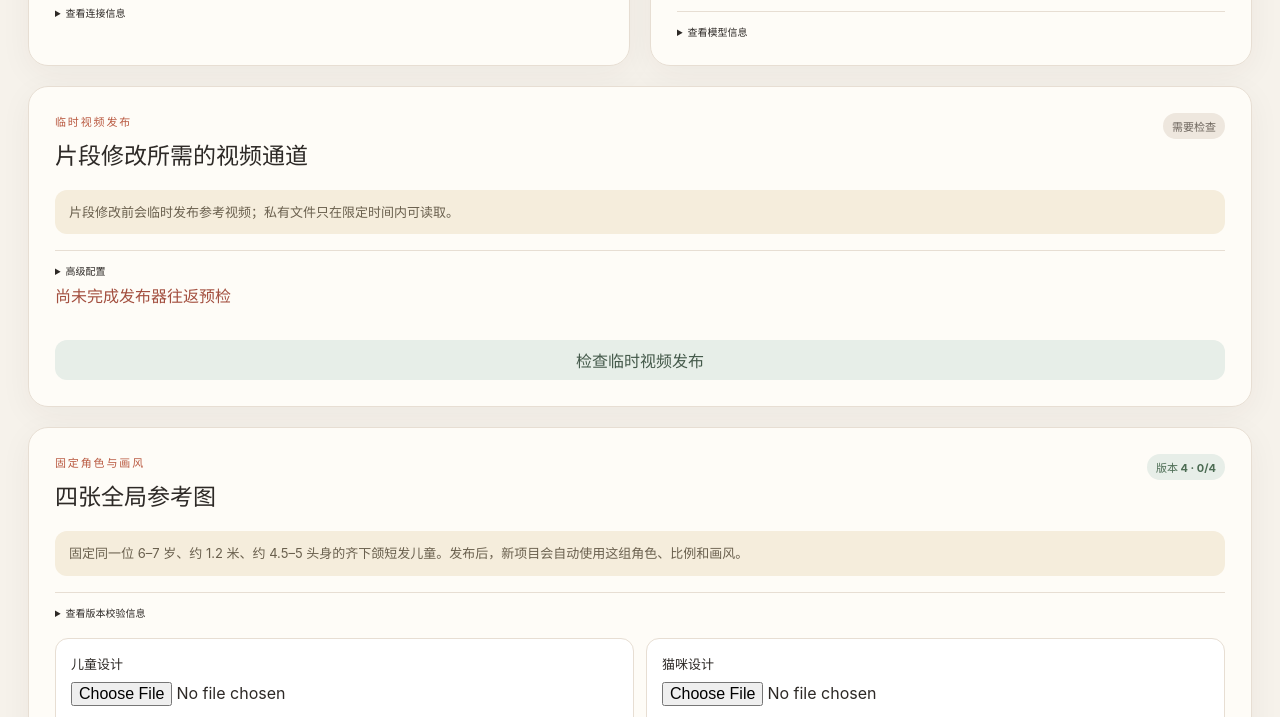
Test: RuntimeSettingsView › runs the non-paid publisher roundtrip from the settings page and shows safe status
(page scrolled)
Step 1. Click the button with test id "check-object-publisher" → point(640, 360), box [55,340,1225,380]
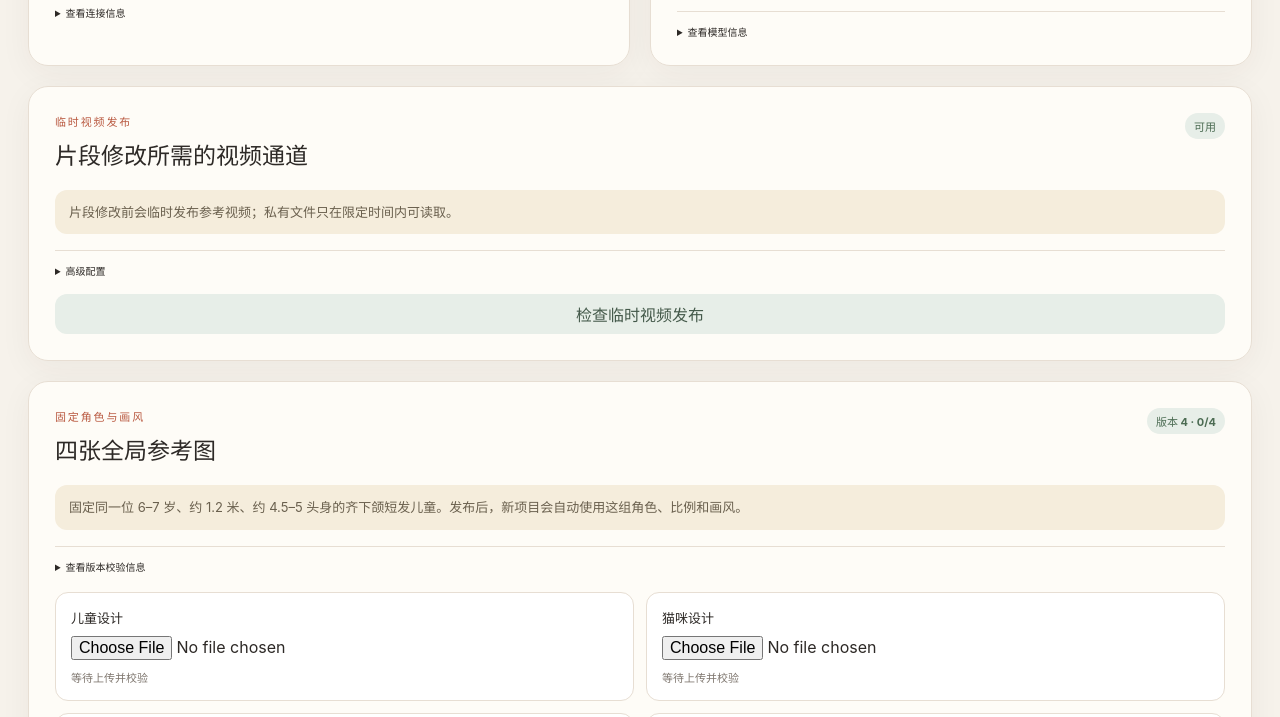
Check: the text with test id "object-publisher-status" reads "可用", box [1194,120,1216,134]
